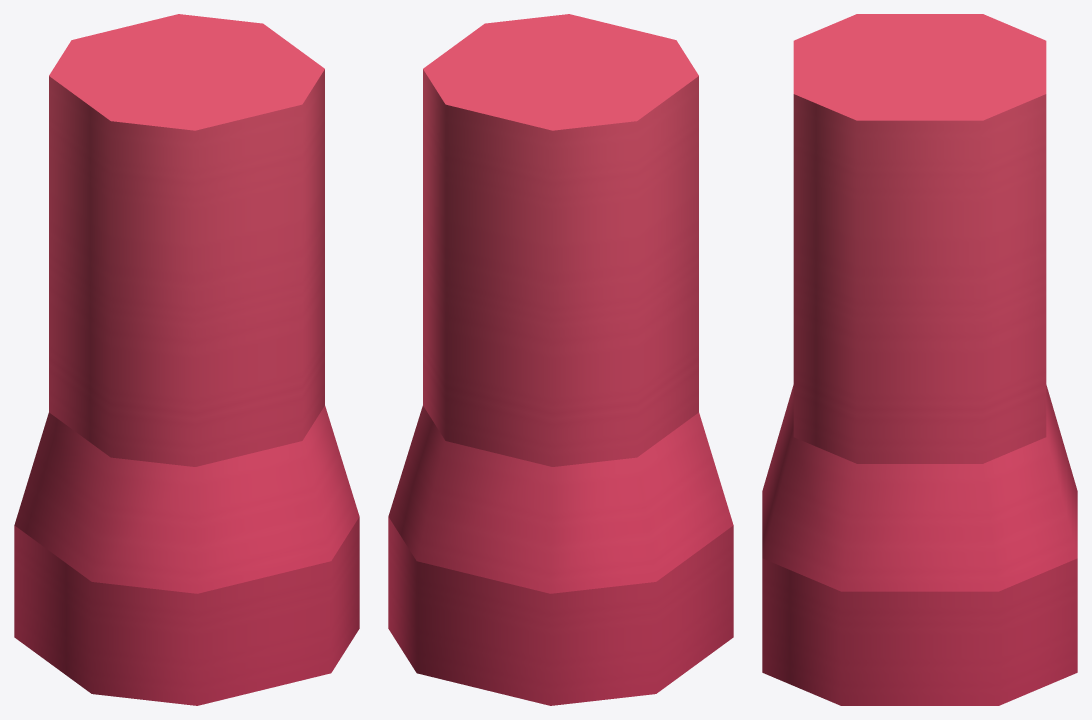
Rendered from support-bottom.gltf.
The picture shows the model from 3 angles, left to right: view 1: azimuth 30°, elevation 25°; view 2: azimuth 150°, elevation 25°; view 3: azimuth 270°, elevation 25°; orthographic projection. The views are drawn at different scales.
Parts seen in each view (by area): view 1: support-bottom; view 2: support-bottom; view 3: support-bottom.
Boxes of the visible parts, <box> form: support-bottom: <box>14,14,359,705</box>; support-bottom: <box>388,14,733,705</box>; support-bottom: <box>762,14,1077,705</box>.
Bounding box in the file's own units: 0.5 × 1 × 0.5.
Materials: 1 (1 with a texture image).
